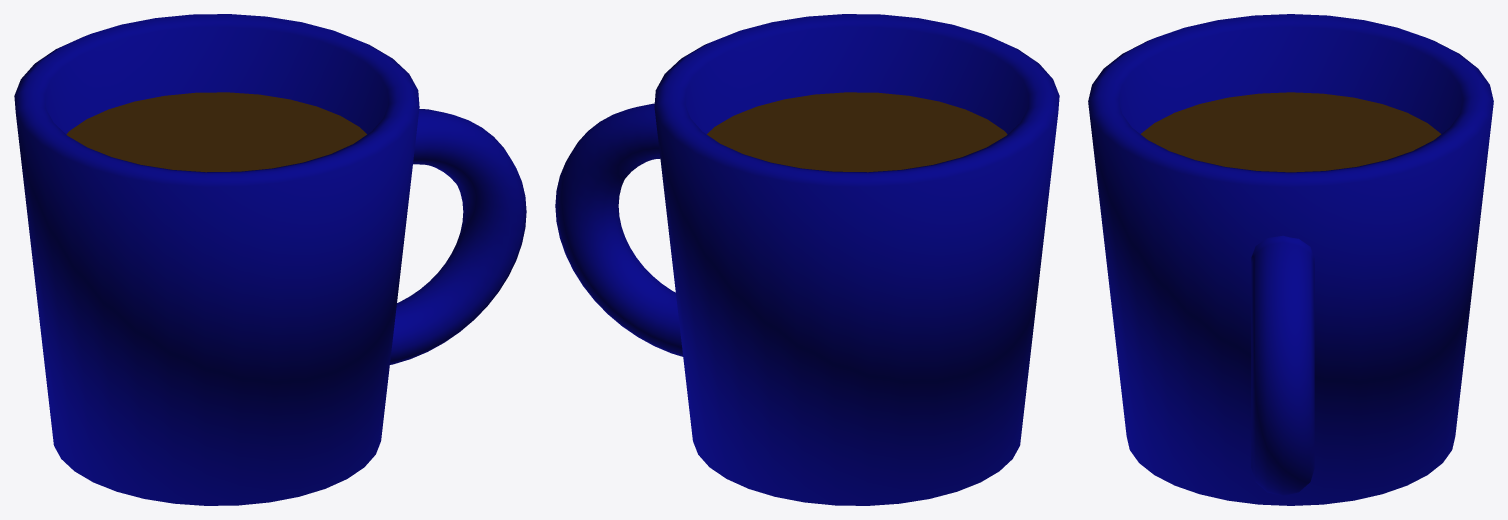
File: Cup.fbx
3 renders of one model, left to right at view 1: azimuth 30°, elevation 25°; view 2: azimuth 150°, elevation 25°; view 3: azimuth 270°, elevation 25°, orthographic.
Parts seen in each view (by area): view 1: Cup; view 2: Cup; view 3: Cup.
Boxes of the visible parts, x1,y1,x2,y2 form: Cup: (14,14,526,505); Cup: (555,14,1059,505); Cup: (1088,14,1493,505).
Bounding box in the file's own units: 335 × 229 × 247.
